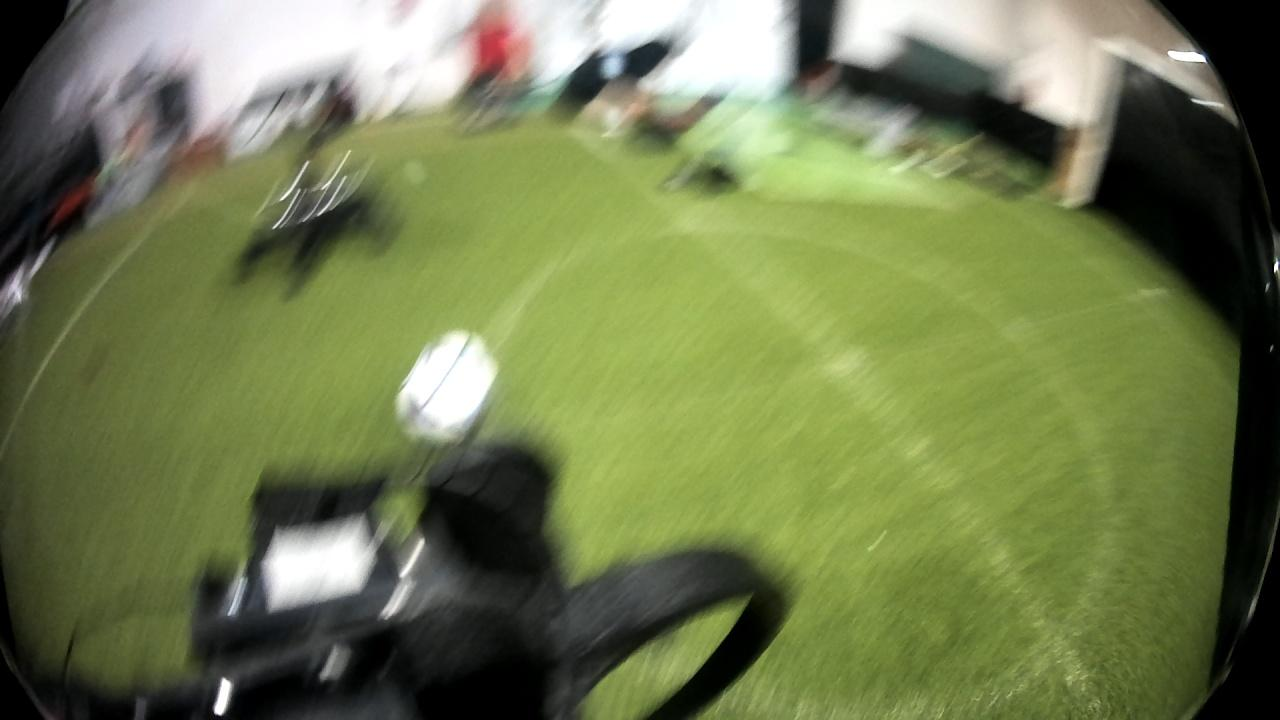ball: (390, 329, 510, 443)
